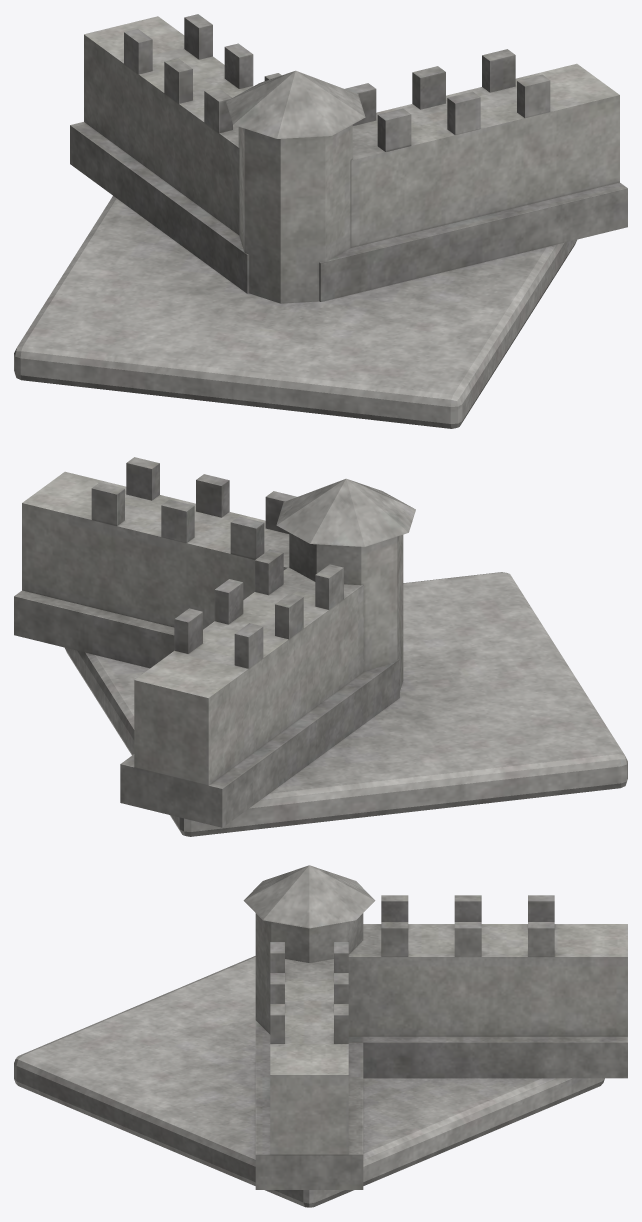
Rendered from wall_c.glb.
3 views of the same model, one above another, from view 1: azimuth 30°, elevation 25°; view 2: azimuth 150°, elevation 25°; view 3: azimuth 270°, elevation 25° (orthographic). The views are drawn at different scales.
Parts seen in each view (by area): view 1: dilek; view 2: dilek; view 3: dilek.
Boxes of the visible parts, bbox=[...] form: dilek: bbox=[14, 14, 627, 428]; dilek: bbox=[14, 457, 627, 836]; dilek: bbox=[14, 865, 627, 1207].
Bounding box in the file's own units: 2.51 × 1 × 2.51.
Materials: 1 (1 with a texture image).
